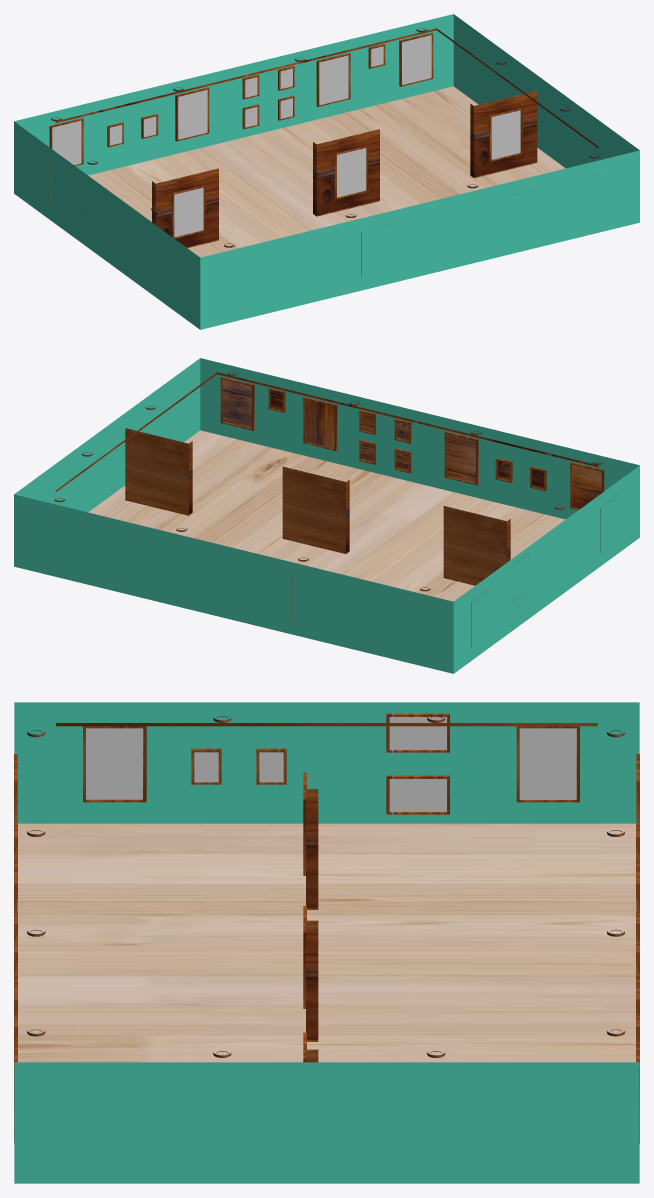
The picture shows the model from 3 angles, top to bottom: view 1: azimuth 30°, elevation 25°; view 2: azimuth 150°, elevation 25°; view 3: azimuth 270°, elevation 25°; orthographic projection. The views are drawn at different scales.
Visible parts, largest first — view 1: Parede, PLANE_003, PLANE_001, PLANE_008, PLANE_031, PLANE_029, PLANE_030, PLANE_011; view 2: Parede; view 3: Parede, PLANE_012, PLANE_017, PLANE_014, PLANE_013, Lights, PLANE_015, PLANE_016.
Boxes of the visible parts, x1,y1,x2,y2 form: Parede: (14,14,639,329); PLANE_003: (319,55,348,105); PLANE_001: (402,35,431,84); PLANE_008: (178,90,207,139); PLANE_031: (174,187,203,236); PLANE_029: (491,110,520,159); PLANE_030: (337,148,366,197); PLANE_011: (52,120,81,164); Parede: (14,358,639,673); Parede: (14,702,639,1183); PLANE_012: (519,728,576,799); PLANE_017: (86,728,142,799); PLANE_014: (389,779,446,811); PLANE_013: (389,717,446,749); Lights: (27,716,624,1057); PLANE_015: (259,752,283,782); PLANE_016: (194,752,218,782).
Bounding box in the file's own units: 2764 × 446 × 2029.
Materials: 3 (2 with a texture image).
